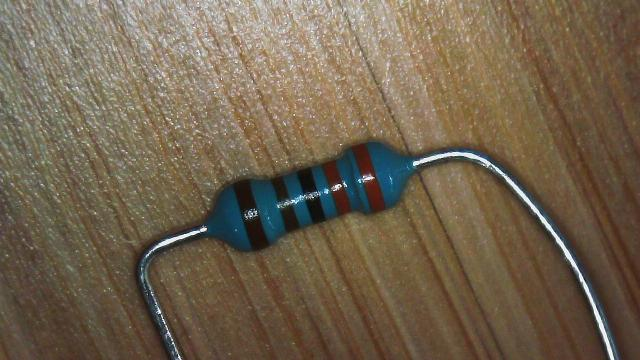black: (297, 167, 326, 223)
brown: (233, 180, 268, 250), (270, 174, 298, 231)
orange: (352, 143, 384, 212), (322, 160, 351, 215)
resistor: (174, 111, 444, 282)
